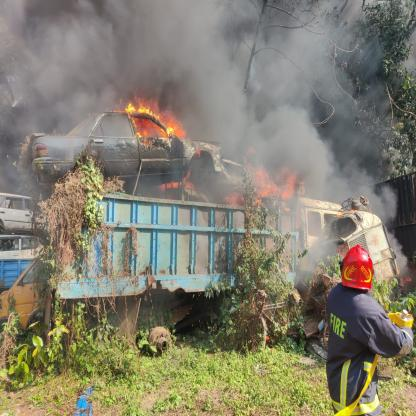Fire: (123, 102, 190, 152)
Smoke: (0, 0, 410, 240)
